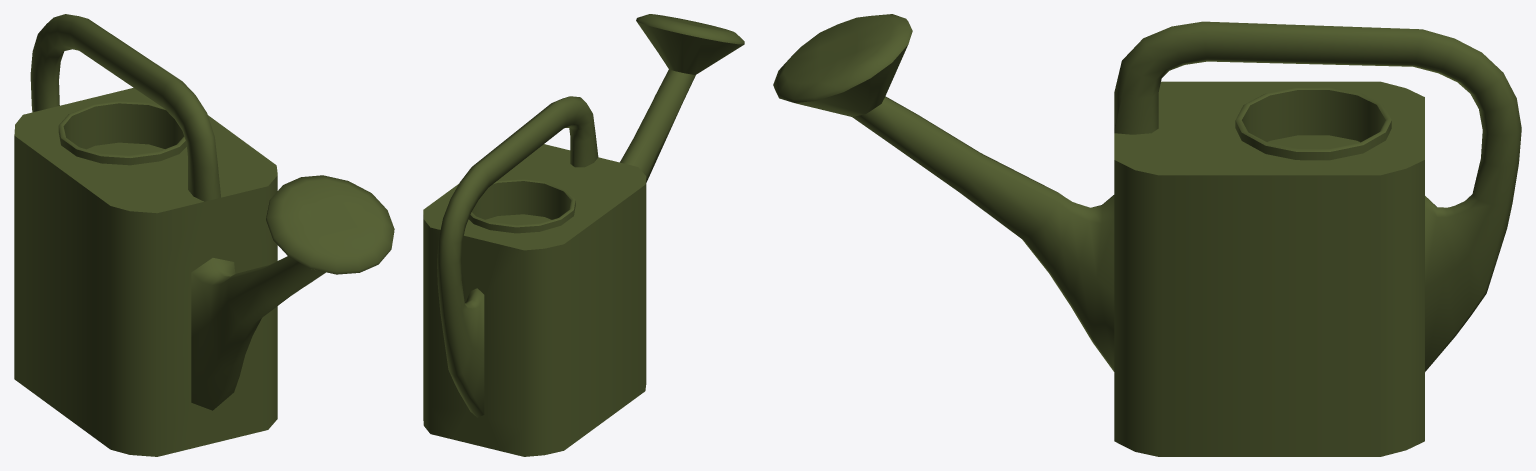
Rendered from SM_Wateringcan.fbx.
The picture shows the model from 3 angles, left to right: view 1: azimuth 30°, elevation 25°; view 2: azimuth 150°, elevation 25°; view 3: azimuth 270°, elevation 25°; orthographic projection. The views are drawn at different scales.
Parts seen in each view (by area): view 1: SM_Wateringcan; view 2: SM_Wateringcan; view 3: SM_Wateringcan.
Boxes of the visible parts, x1,y1,x2,y2 form: SM_Wateringcan: (14,14,394,456); SM_Wateringcan: (423,14,744,456); SM_Wateringcan: (773,14,1521,456).
Size of the model in its own units: 31.37 by 60.65 by 106.
